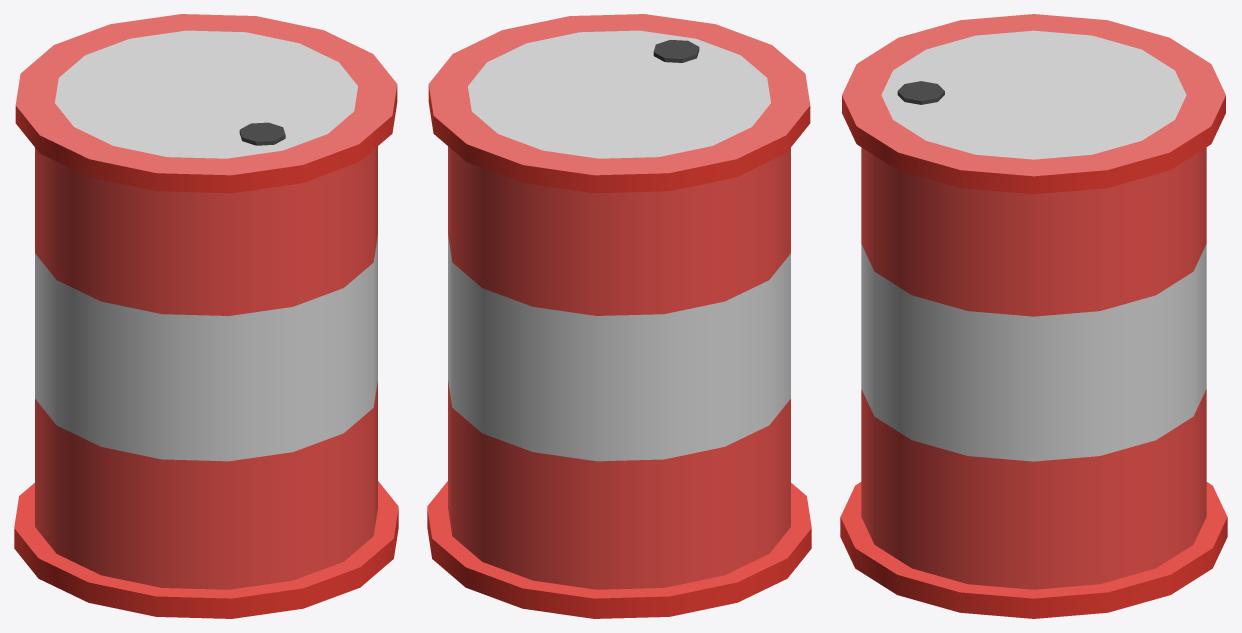
The model's file is Barrel.fbx.
The picture shows the model from 3 angles, left to right: view 1: azimuth 30°, elevation 25°; view 2: azimuth 150°, elevation 25°; view 3: azimuth 270°, elevation 25°; orthographic projection.
Parts seen in each view (by area): view 1: Varil; view 2: Varil; view 3: Varil.
Part boxes in pixels (left/top/right/bottom): Varil: left=14, top=14, right=398, bottom=618; Varil: left=427, top=14, right=811, bottom=618; Varil: left=840, top=14, right=1227, bottom=618.
Bounding box in the file's own units: 87.89 × 112 × 87.89.
